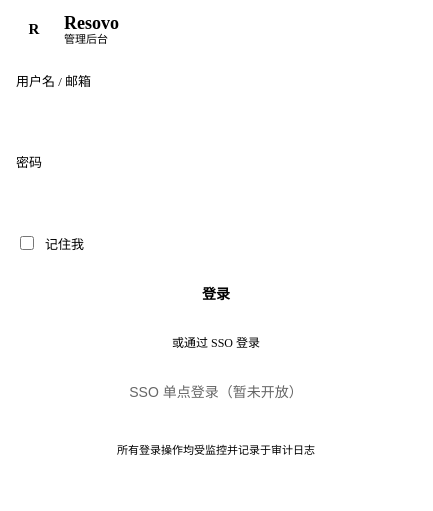
Test: LoginForm — 表单交互 › 空表单提交 → 渲染 serverError 提示
What coordinates should you click on to do the following:
click the button with test id "login-submit"
I would click on:
 (216, 293)
Its box is x1=16 y1=273 x2=416 y2=313.
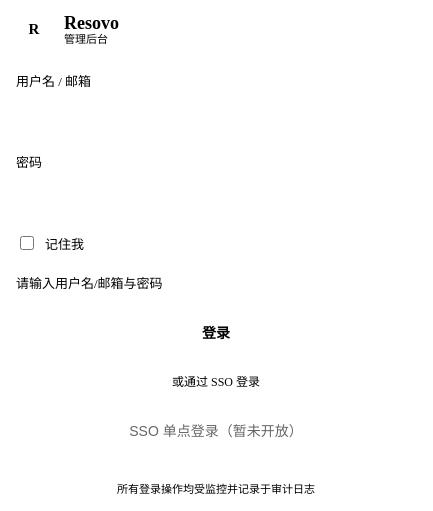
Expected: the message shows "请输入", x1=16 y1=276 x2=163 y2=291
